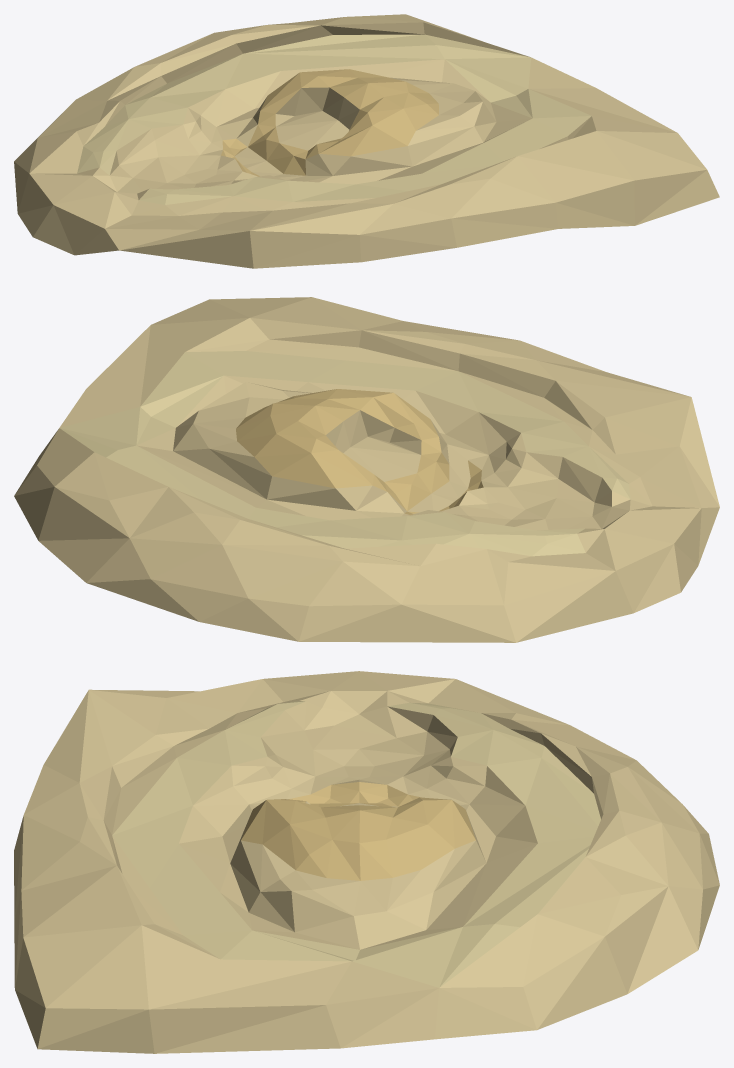
Rendered from EA03_Env_Sand_Flat_01b.glb.
3 views of the same model, one above another, from view 1: azimuth 30°, elevation 25°; view 2: azimuth 150°, elevation 25°; view 3: azimuth 270°, elevation 25° (orthographic). The views are drawn at different scales.
Visible parts, largest first — view 1: EA03_Env_Sand_Flat_01b; view 2: EA03_Env_Sand_Flat_01b; view 3: EA03_Env_Sand_Flat_01b.
Boxes of the visible parts, bbox=[...] form: EA03_Env_Sand_Flat_01b: bbox=[14, 14, 719, 268]; EA03_Env_Sand_Flat_01b: bbox=[14, 297, 719, 642]; EA03_Env_Sand_Flat_01b: bbox=[14, 671, 719, 1053].
Size of the model in its own units: 12.81 by 1.73 by 10.89.
Materials: 1 (1 with a texture image).
